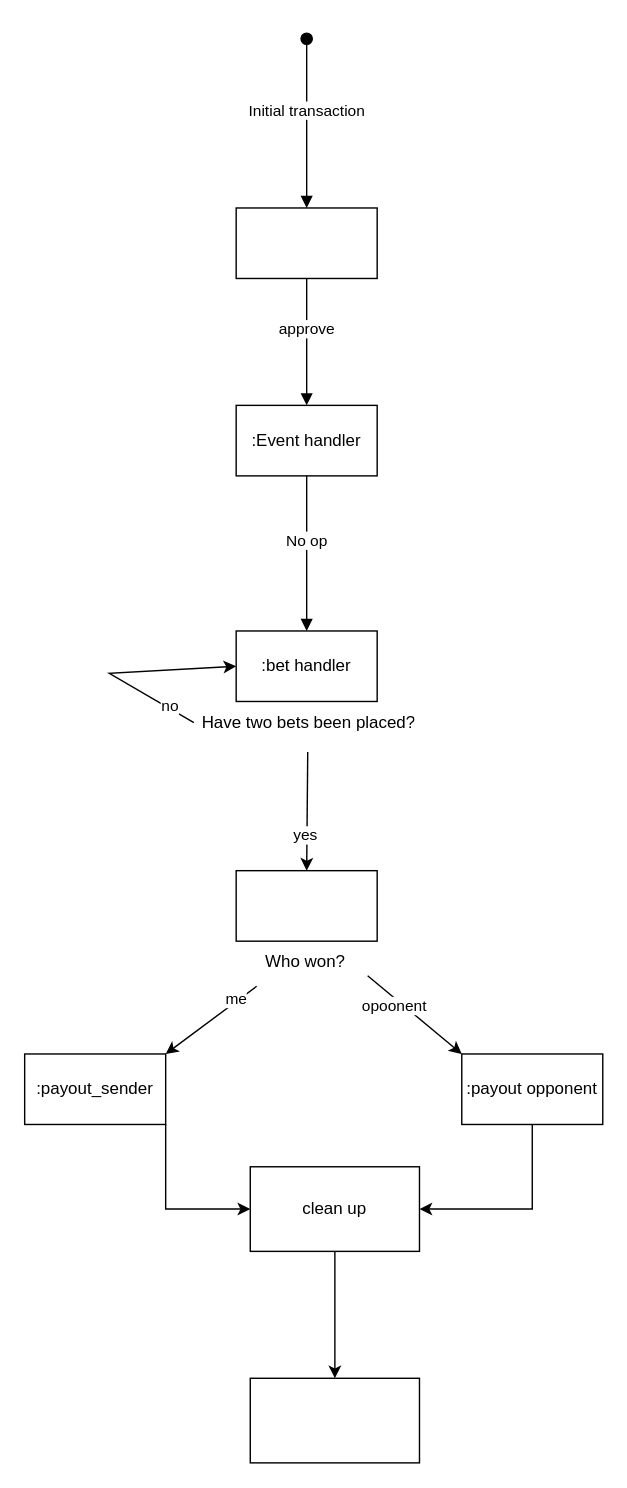
The diagram is 627 pixels wide and 1488 high, and some of its shapes have lost their labels. Each missing label, with the centre of its shape:
":play game" goes at [306,905].
":Smart Contract" goes at [306,242].
"transaction approved" goes at [334,1420].
